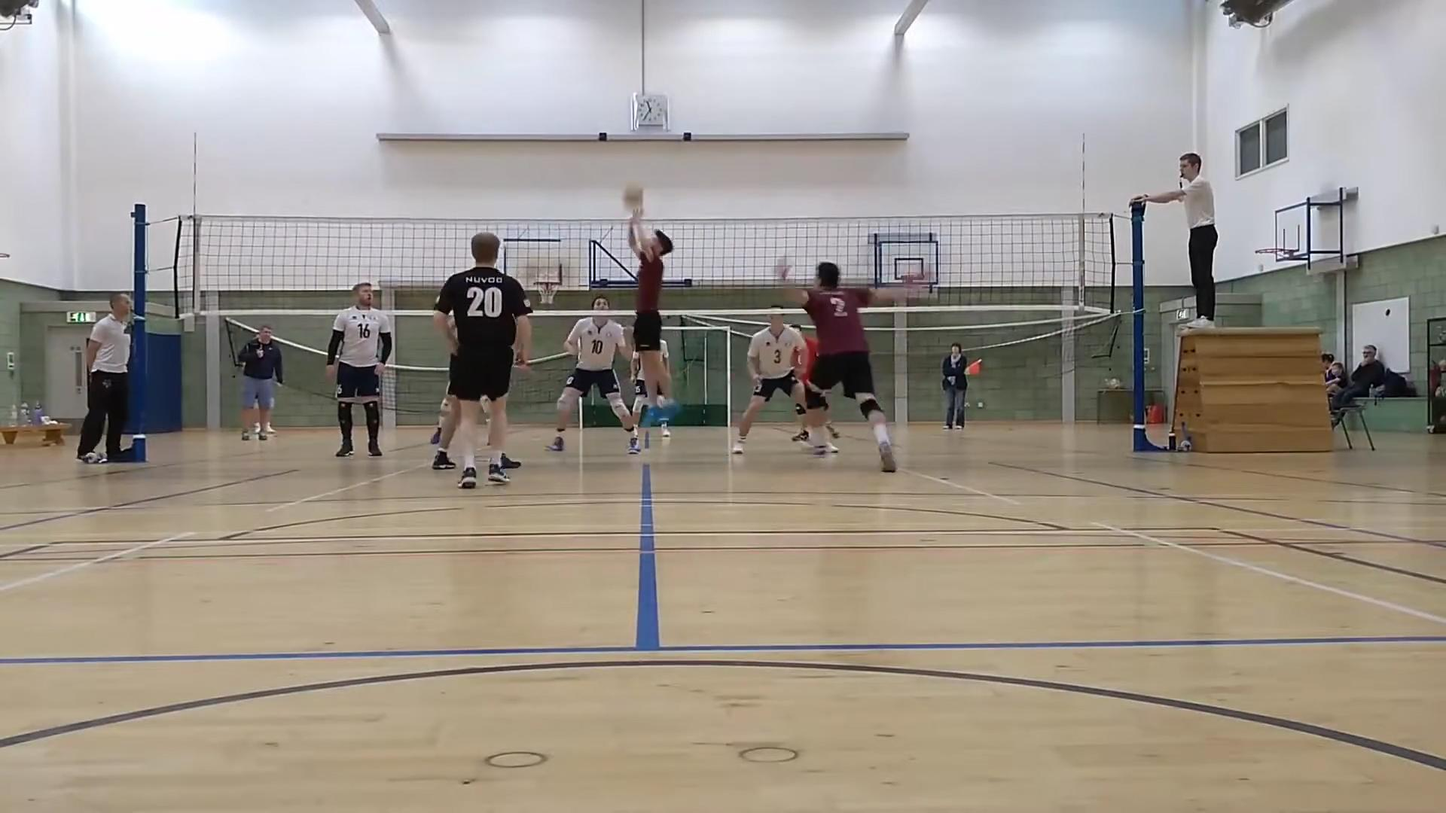Player: (434, 233, 530, 488), (792, 261, 900, 471), (546, 297, 639, 454), (325, 282, 392, 456), (732, 309, 806, 454), (431, 394, 459, 470), (792, 324, 817, 386), (629, 349, 648, 425)
Set: (621, 181, 681, 427)
ball: (616, 179, 649, 216)
